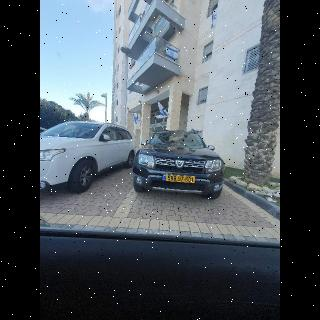LicensePlate: (166, 175, 195, 183)
